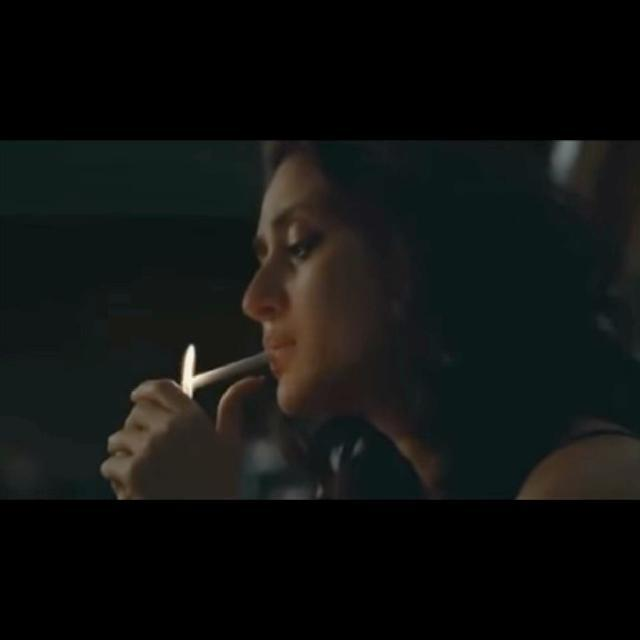rokok: (186, 343, 274, 392)
